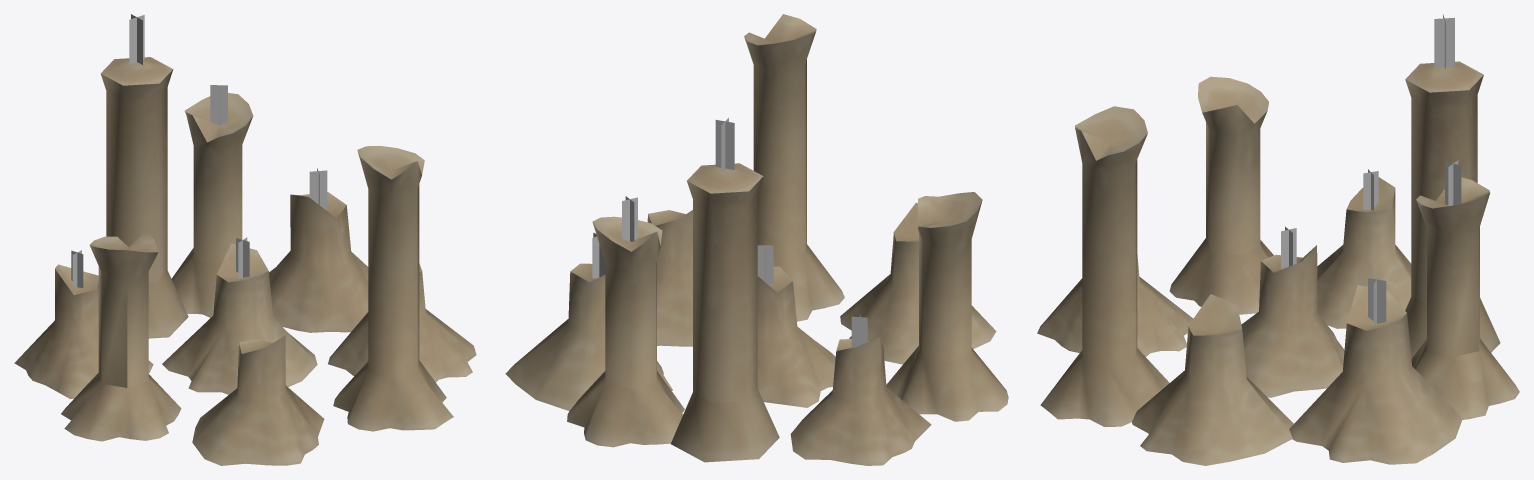
The model's file is SM_Candles_I.fbx.
3 views of the same model, side by side, from view 1: azimuth 30°, elevation 25°; view 2: azimuth 150°, elevation 25°; view 3: azimuth 270°, elevation 25° (orthographic). The views are drawn at different scales.
Visible parts, largest first — view 1: SM_Candles_I_LOD0; view 2: SM_Candles_I_LOD0; view 3: SM_Candles_I_LOD0.
Part boxes in pixels (x1,y1,x2,y2): SM_Candles_I_LOD0: (14, 14, 476, 465); SM_Candles_I_LOD0: (505, 14, 1008, 465); SM_Candles_I_LOD0: (1037, 14, 1519, 465).
Size of the model in its own units: 25.25 by 24.85 by 18.62.
Materials: 2 (1 with a texture image).
